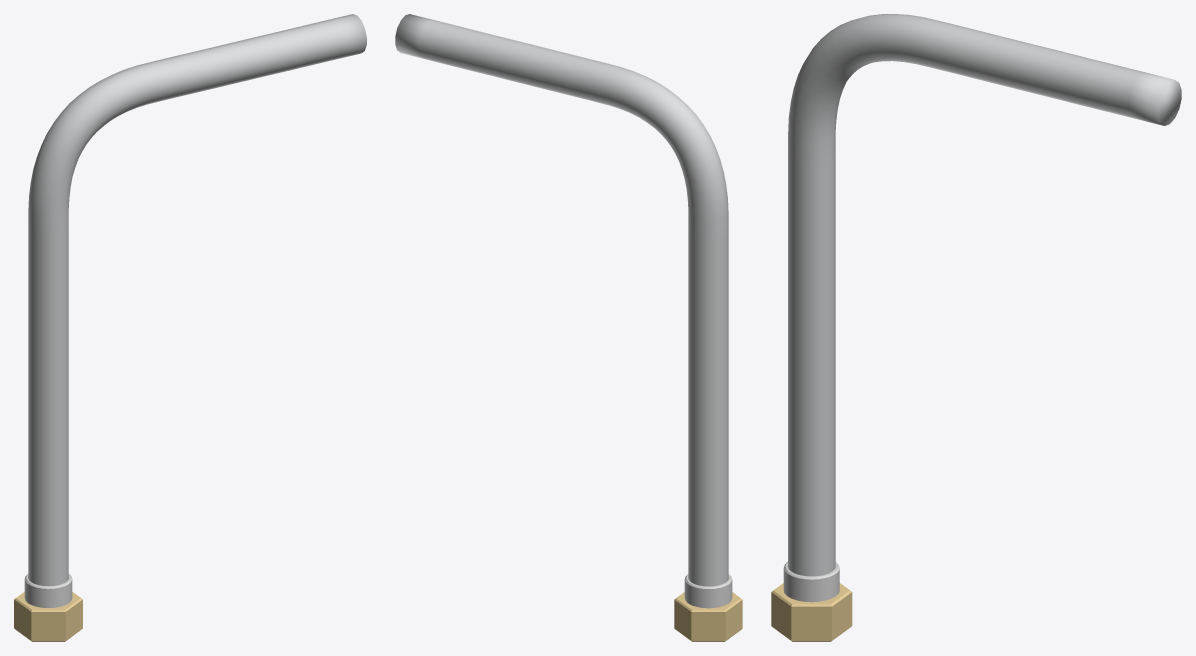
Rendered from pipes_supply__water_heater-attic_gas_tank+attic_electric_tank_and_plumbing-pex__r4y.glb.
3 views of the same model, side by side, from view 1: azimuth 30°, elevation 25°; view 2: azimuth 150°, elevation 25°; view 3: azimuth 330°, elevation 25° (orthographic). The views are drawn at different scales.
Parts seen in each view (by area): view 1: pipe_supply_wh_flex_cold__pex, fit_wh_flex_nut_cold__pex; view 2: pipe_supply_wh_flex_cold__pex, fit_wh_flex_nut_cold__pex; view 3: pipe_supply_wh_flex_cold__pex, fit_wh_flex_nut_cold__pex.
Part boxes in pixels (x1,y1,x2,y2): pipe_supply_wh_flex_cold__pex: [28, 14, 366, 586]; fit_wh_flex_nut_cold__pex: [14, 574, 82, 641]; pipe_supply_wh_flex_cold__pex: [395, 14, 728, 586]; fit_wh_flex_nut_cold__pex: [674, 574, 742, 641]; pipe_supply_wh_flex_cold__pex: [788, 14, 1181, 576]; fit_wh_flex_nut_cold__pex: [771, 561, 852, 641].
Bounding box in the file's own units: 0.1943 × 0.3022 × 0.0348.
